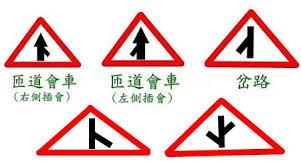fork_road: (165, 95, 287, 155), (31, 100, 153, 155), (203, 5, 300, 70)
